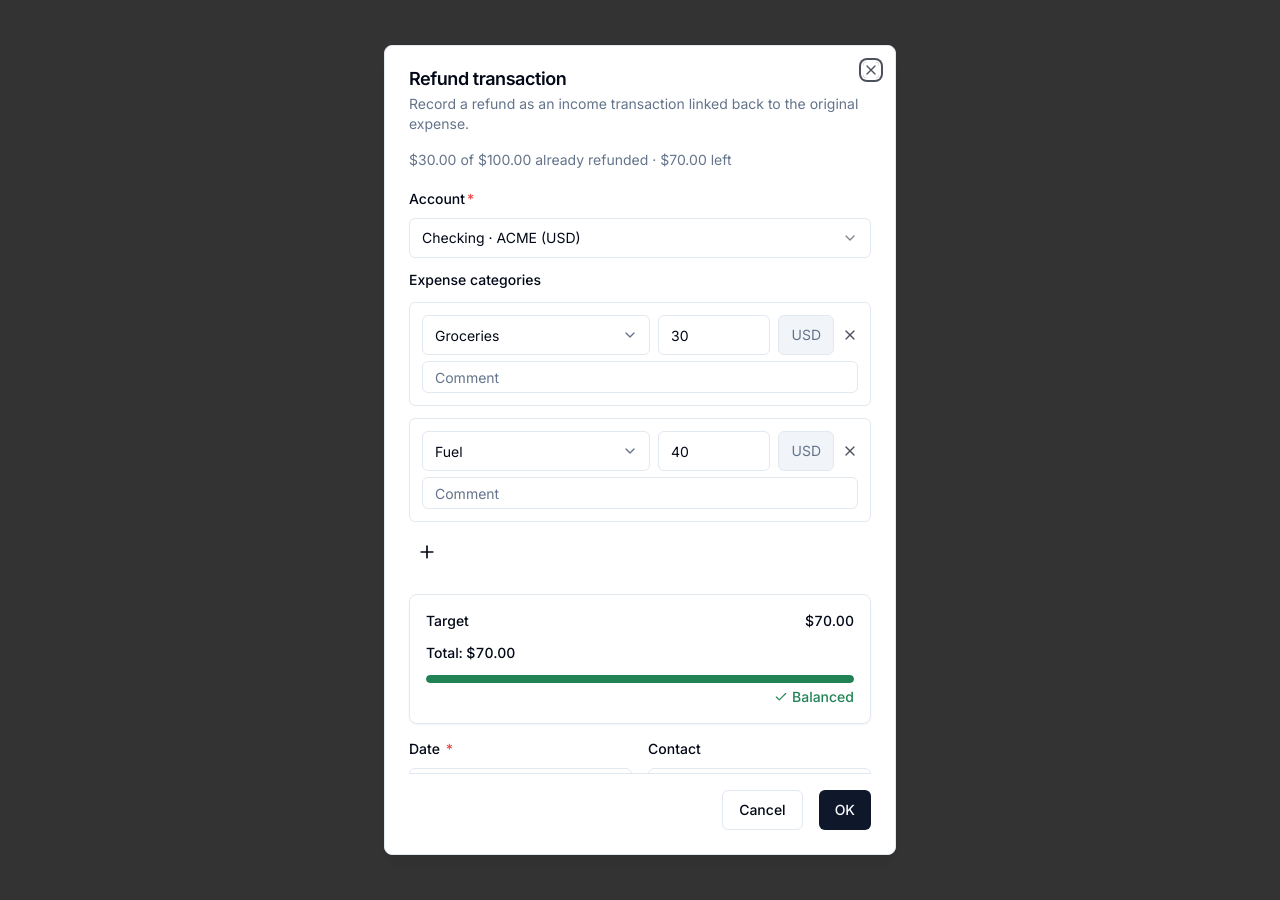
RefundTransactionDialog › per-slice cap: with a prior refund leaving Groceries 30, typing 40 blocks submit
The width and height of the screenshot is (1280, 900).
expect the dropdown named "account" is shown: met, box [409,218,871,258]
Step 1. Clear the 1st number field named "Amount" → (714, 335), box [658,315,770,355]
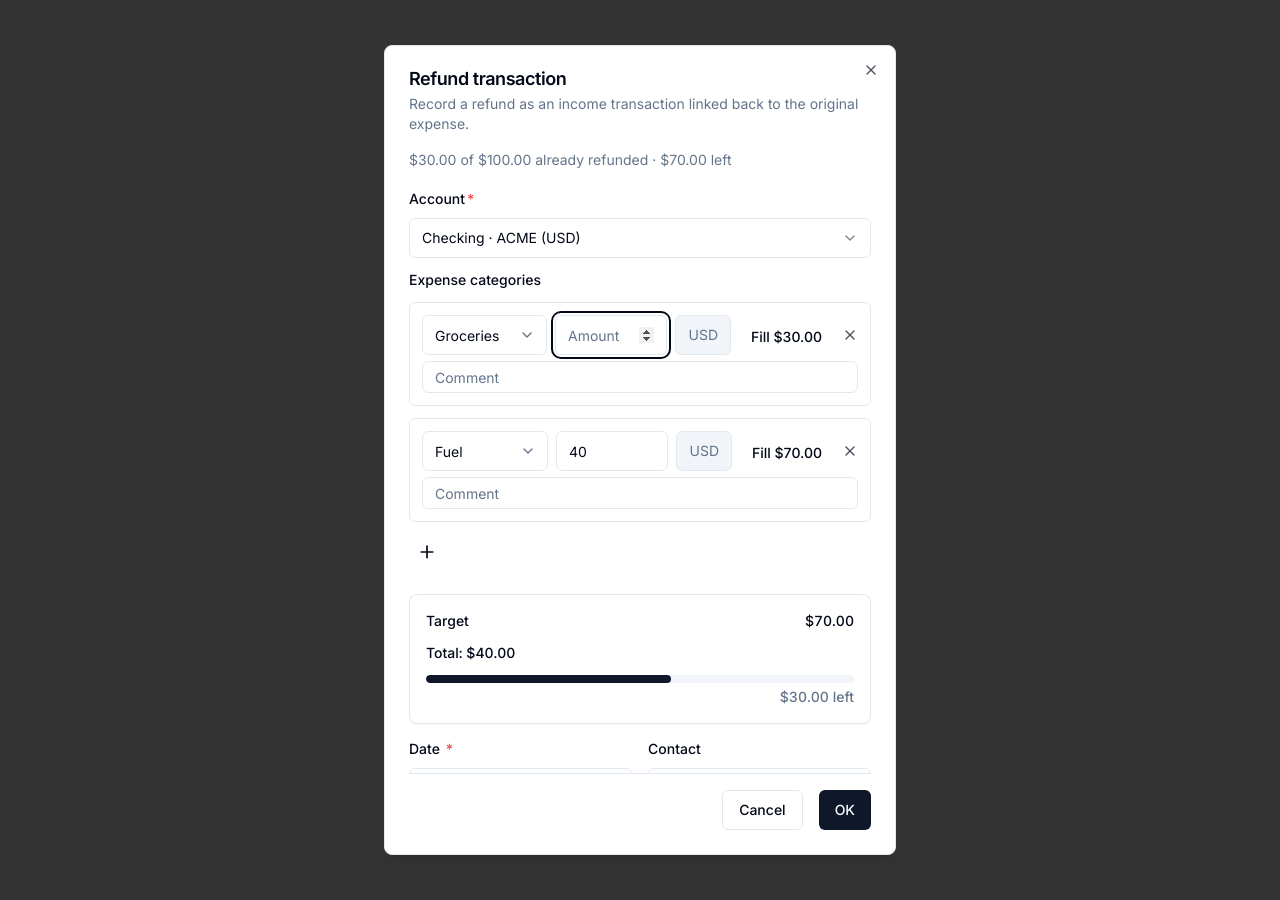
Step 2. Type "40" into the number field labelled "Amount" → (611, 335), box [555,315,668,355]
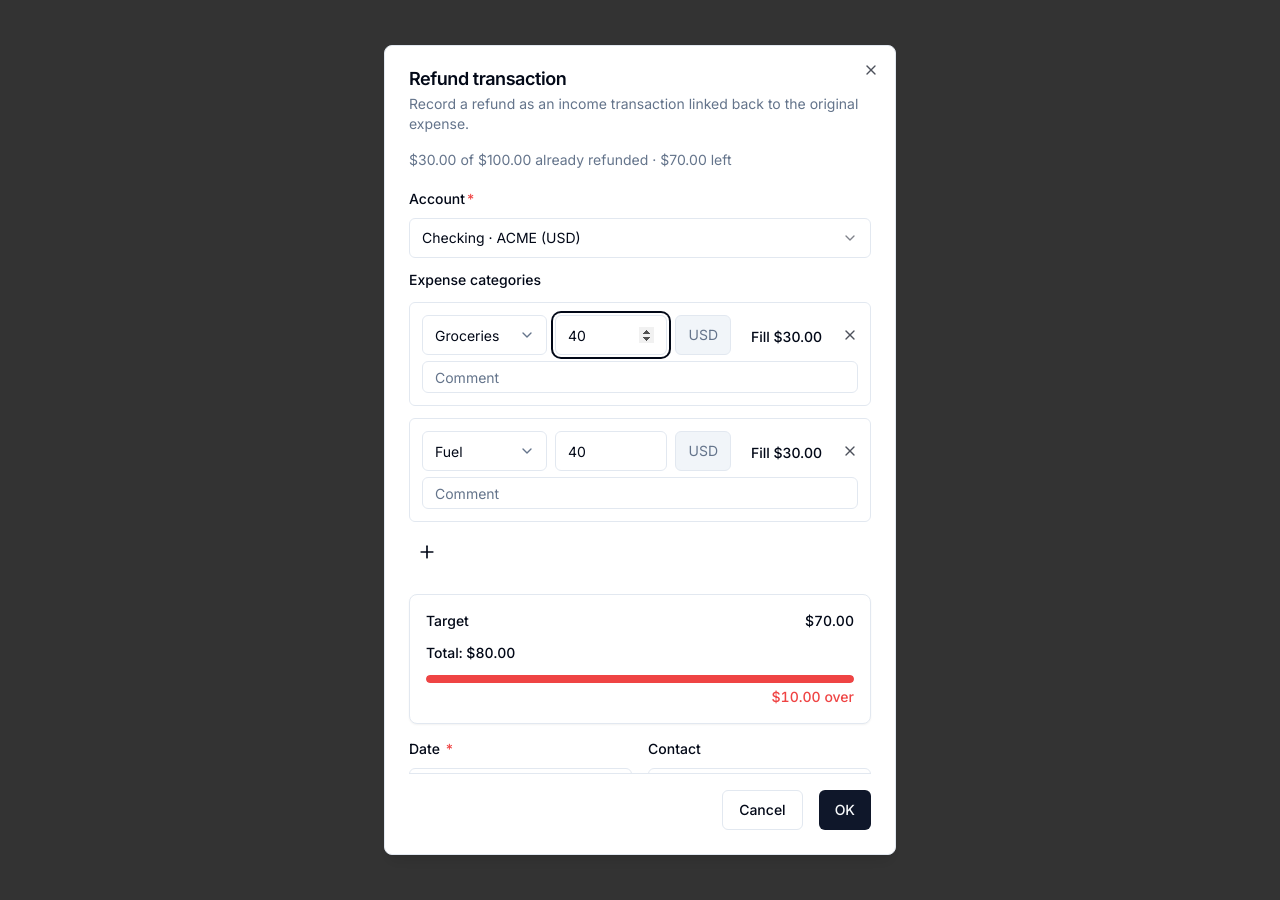
Step 3. Click the button "OK" → (845, 810), box [819,790,871,830]
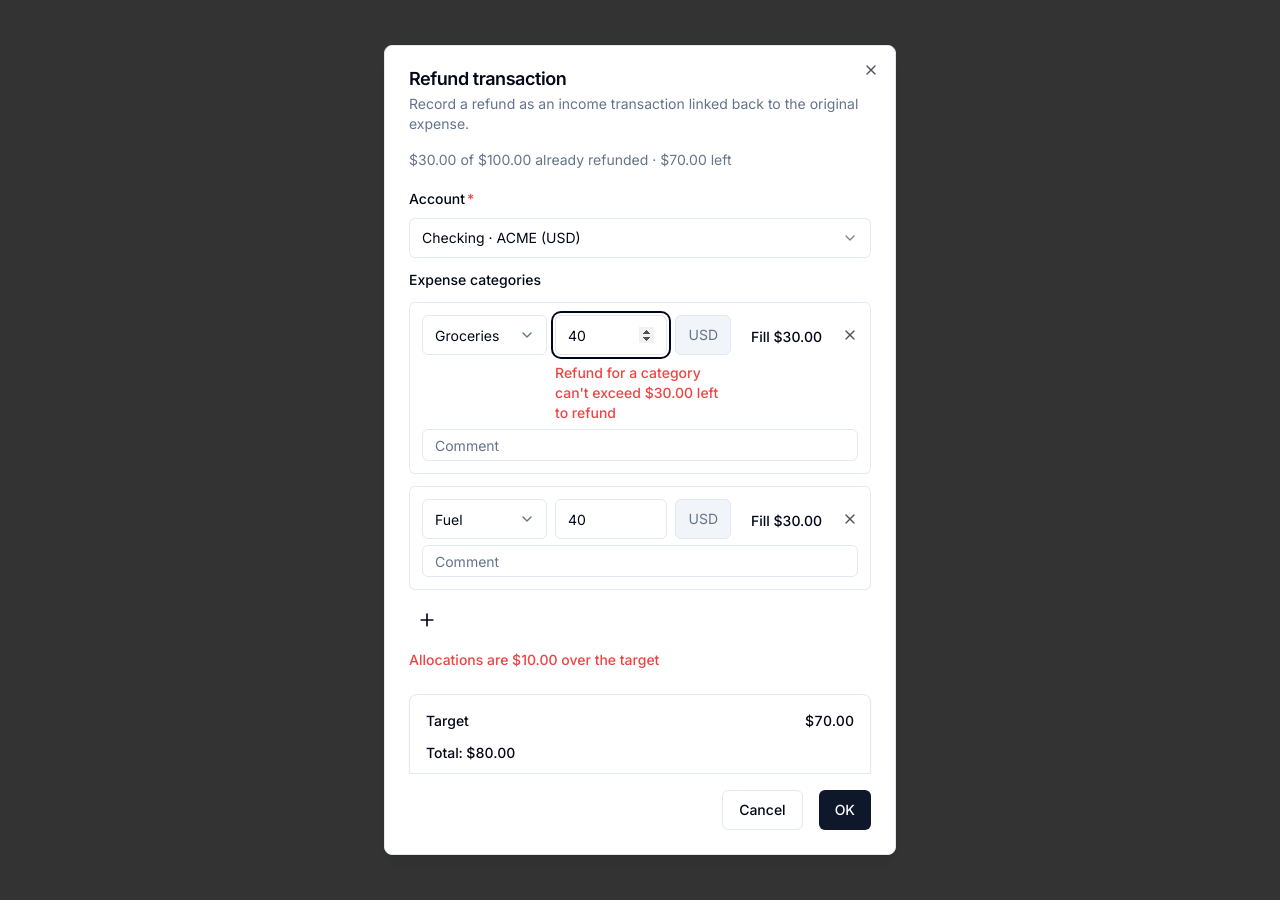
expect the text "Refund for a category can't exceed $30.00 left to refund" is shown: met, box [555,363,731,423]
